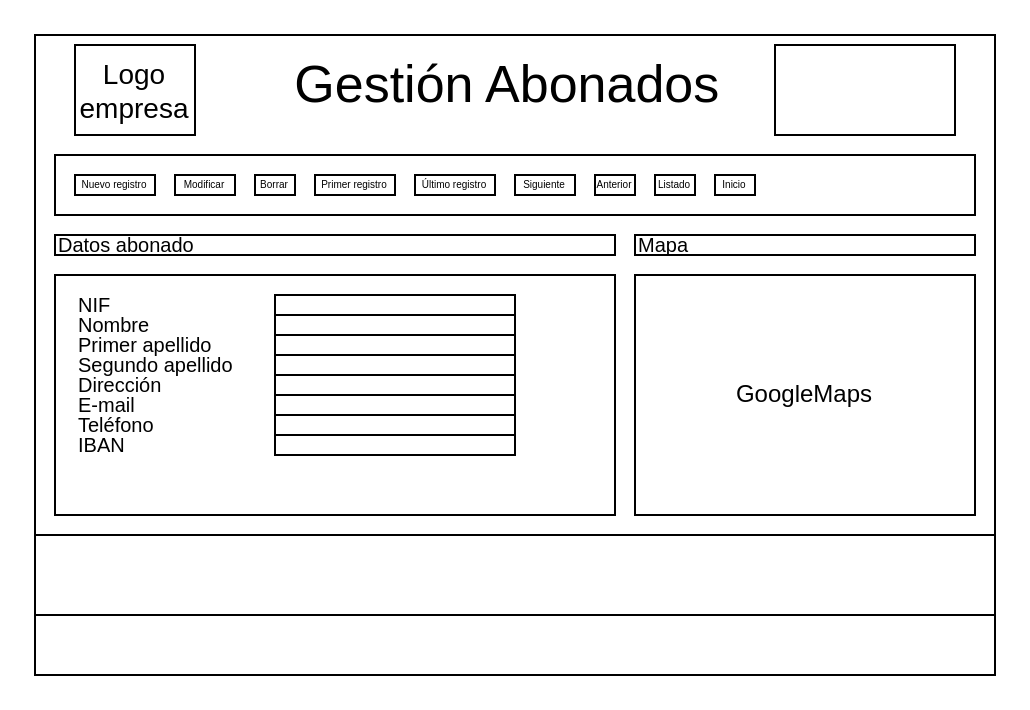
Image size: 1030x710. Some labels were removed from this diagram. Here are the shapes that lost their labels. From the top down, the centre of each, then its label:
At (864,89): "Emblema del municipio".
At (514,574): "Datos del desarrollador".
